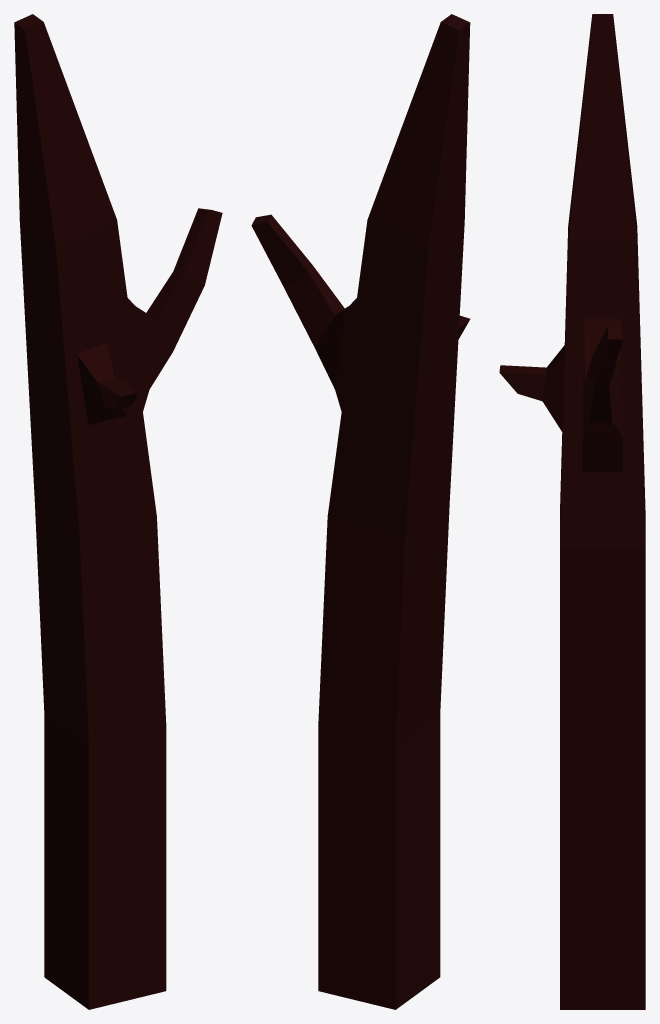
The model's file is tree_3.glb.
The picture shows the model from 3 angles, left to right: view 1: azimuth 30°, elevation 25°; view 2: azimuth 150°, elevation 25°; view 3: azimuth 270°, elevation 25°; orthographic projection. The views are drawn at different scales.
Parts seen in each view (by area): view 1: Cube.002; view 2: Cube.002; view 3: Cube.002.
Boxes of the visible parts, x1=… form: Cube.002: x1=14, y1=14, x2=222, y2=1009; Cube.002: x1=251, y1=14, x2=470, y2=1009; Cube.002: x1=499, y1=14, x2=645, y2=1009.
Bounding box in the file's own units: 4.07 × 18.54 × 2.61.
Materials: 1 (1 with a texture image).
